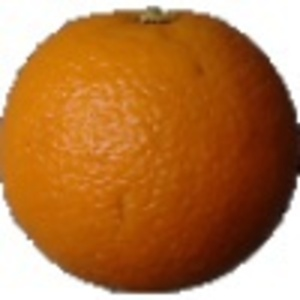laranja: (3, 4, 298, 294)
